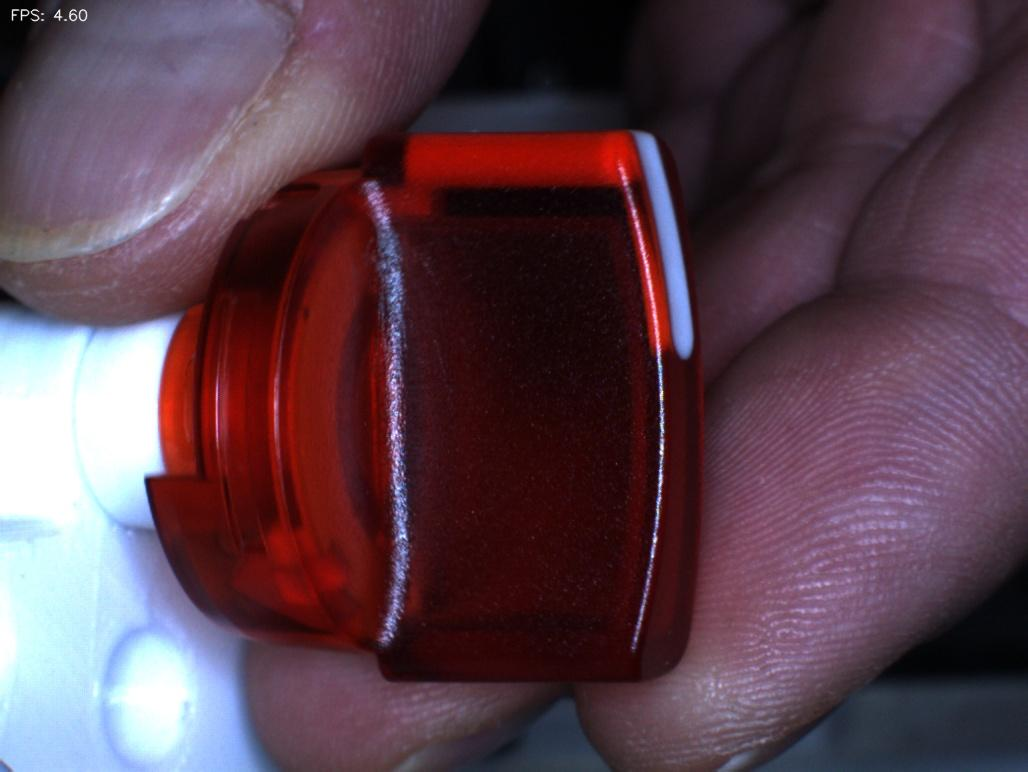Givrage: (354, 232, 456, 394)
